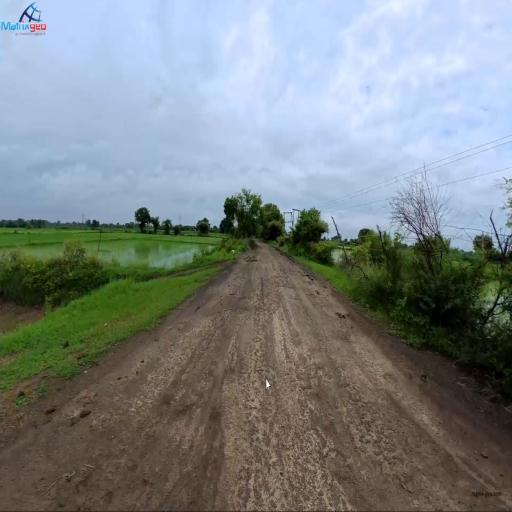ravelling: (244, 324, 376, 508)
